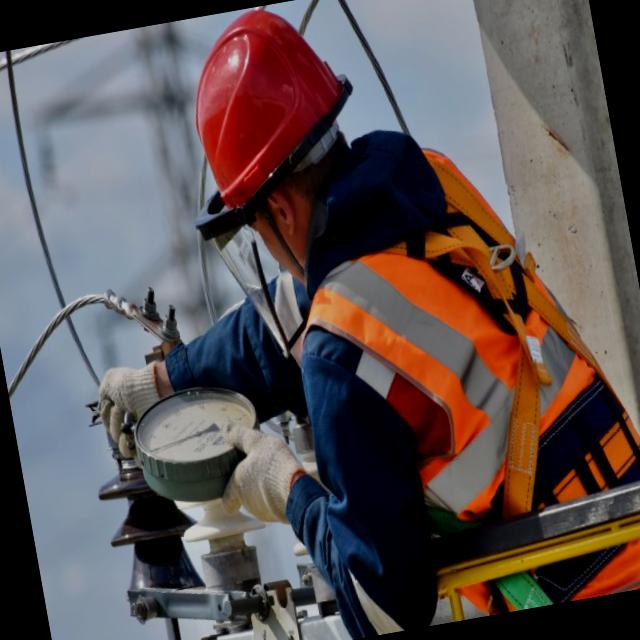helmet: (161, 0, 379, 253)
vest: (262, 104, 640, 640)
